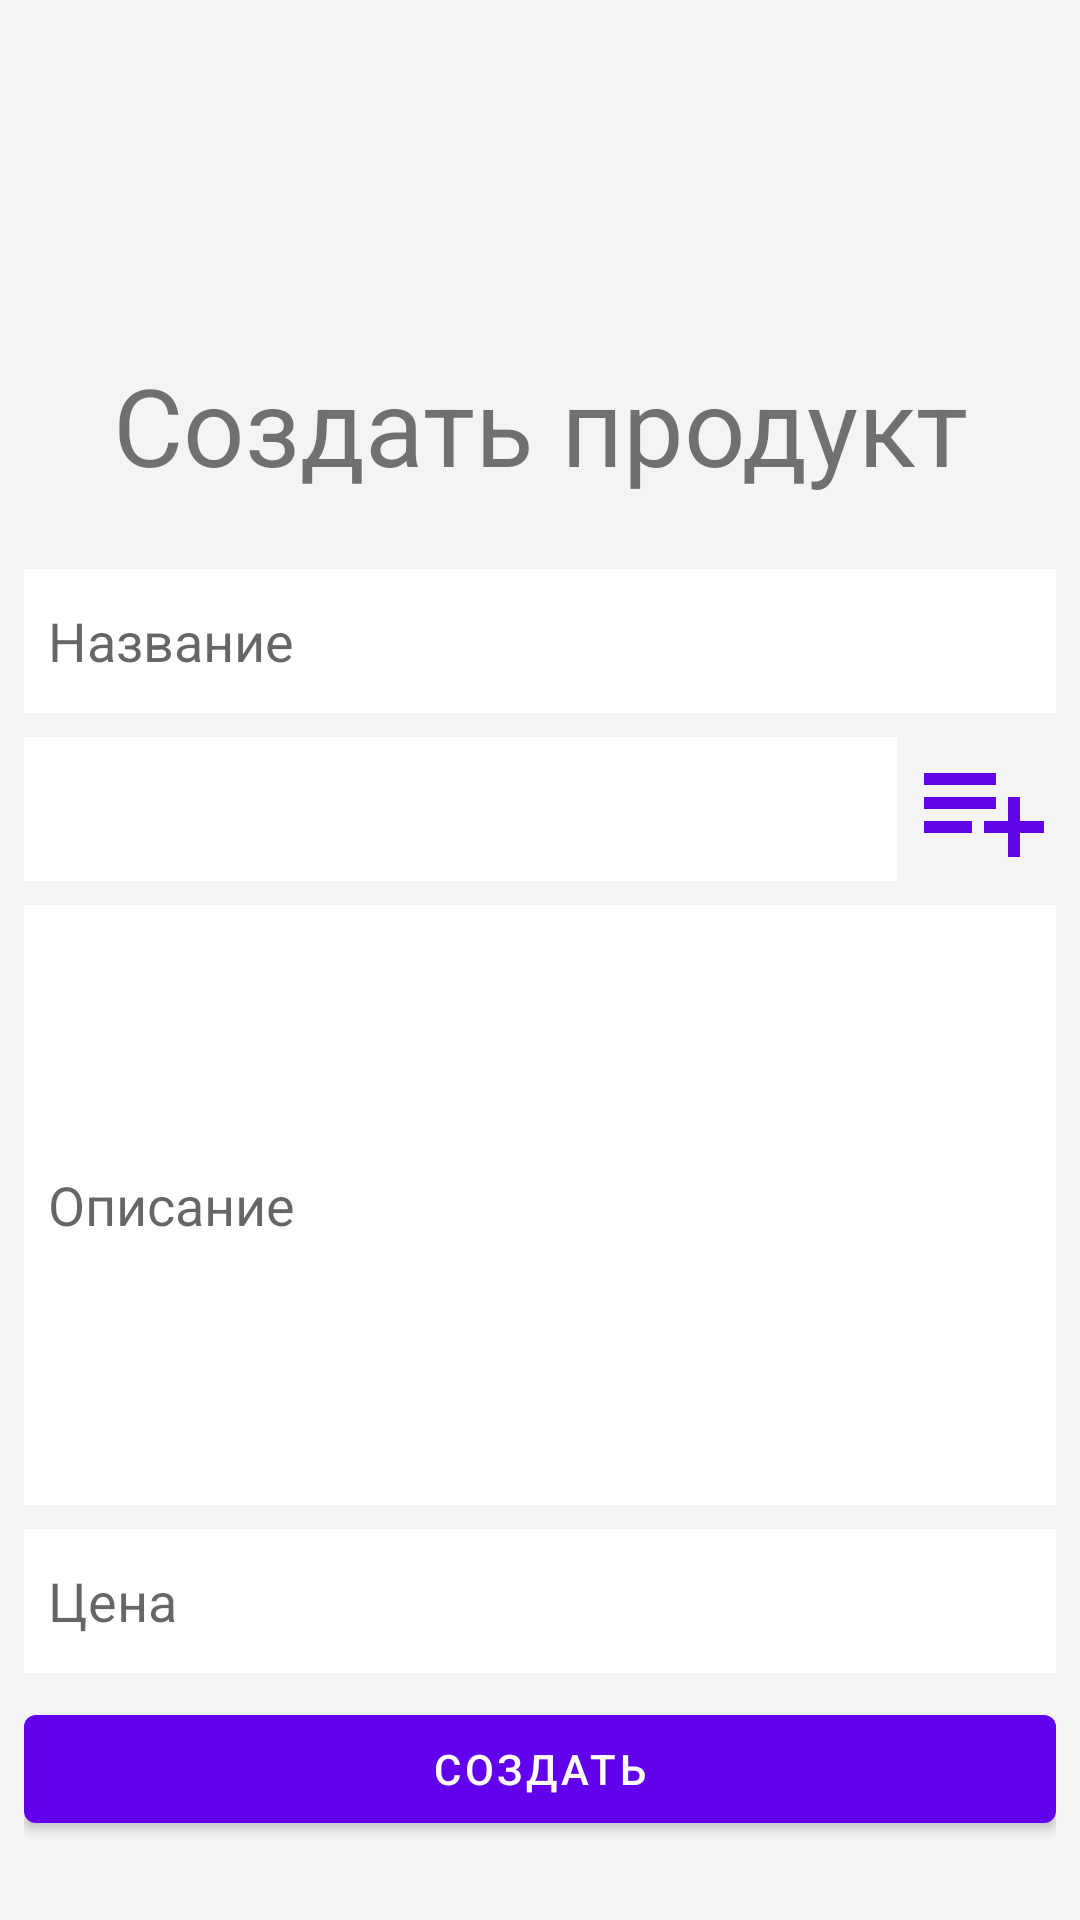

Icon bounding boxes for this 1080 x 1920 phone screenshot, format (x1=x1, y1=y1, x2=x2, y2=y2):
playlist add: (x1=924, y1=773, x2=1044, y2=857)
